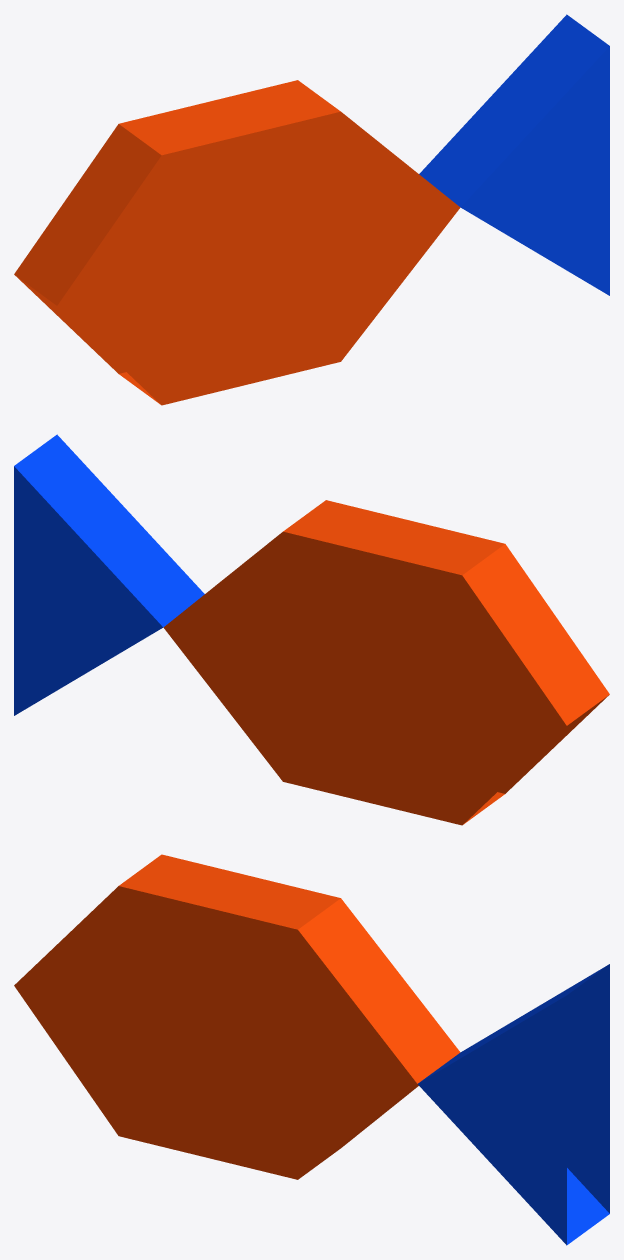
Rendered from generated_model.obj.
The picture shows the model from 3 angles, top to bottom: view 1: azimuth 30°, elevation 25°; view 2: azimuth 150°, elevation 25°; view 3: azimuth 330°, elevation 25°; orthographic projection.
Parts seen in each view (by area): view 1: Colorful_Fish; view 2: Colorful_Fish; view 3: Colorful_Fish.
Boxes of the visible parts, x1,y1,x2,y2 form: Colorful_Fish: (14,14,609,405); Colorful_Fish: (14,434,609,825); Colorful_Fish: (14,854,609,1245).
Bounding box in the file's own units: 3.7 × 1.6 × 0.5.
